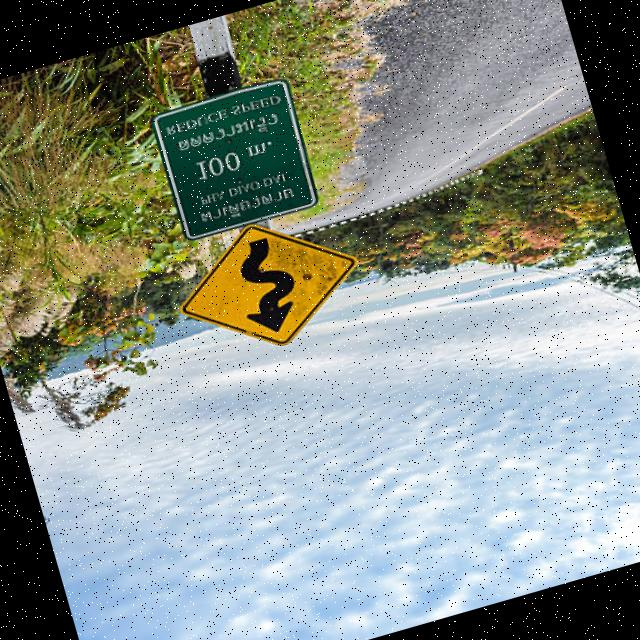left_sharp_curve: (160, 196, 373, 379)
